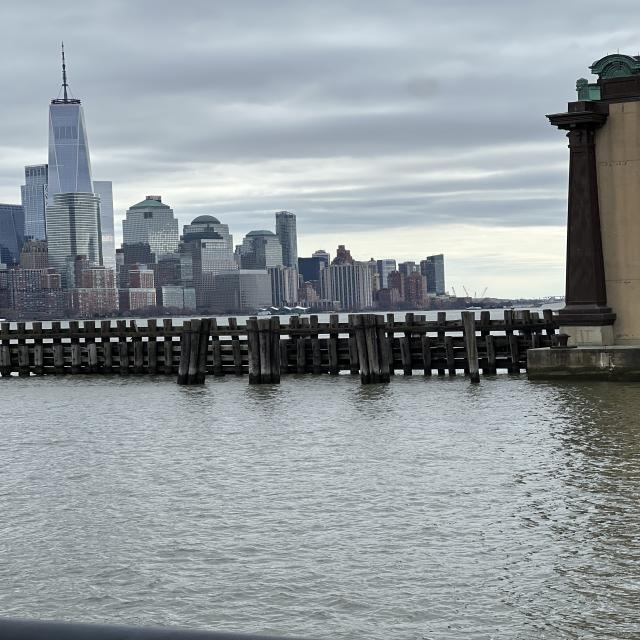WTC: (45, 39, 93, 195)
